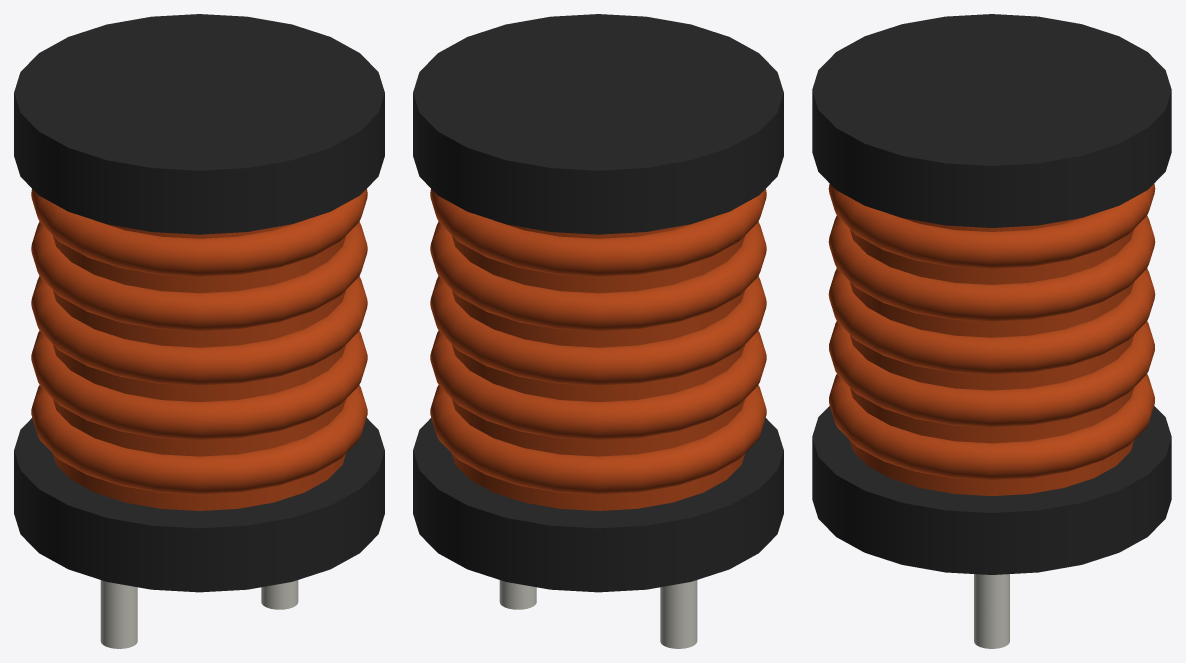
Rendered from inductor_radial.glb.
The picture shows the model from 3 angles, left to right: view 1: azimuth 30°, elevation 25°; view 2: azimuth 150°, elevation 25°; view 3: azimuth 270°, elevation 25°; orthographic projection. The views are drawn at different scales.
Visible parts, largest first — view 1: U1; view 2: U1; view 3: U1.
Part boxes in pixels (x1,y1,x2,y2): U1: (14,14,384,648); U1: (413,14,783,648); U1: (812,14,1171,648).
Size of the model in its own units: 0.01 by 0.0157 by 0.01.
